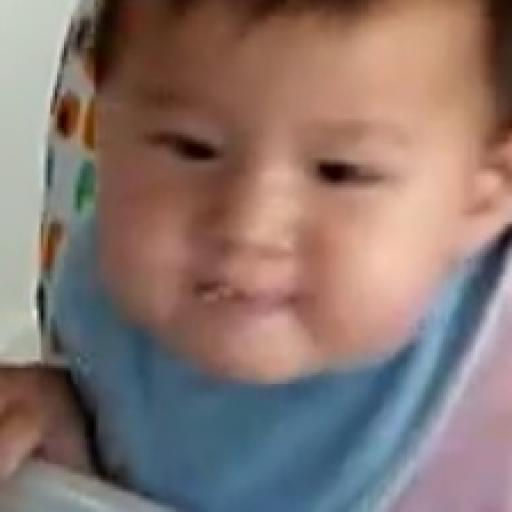Autism: (58, 8, 493, 410)
